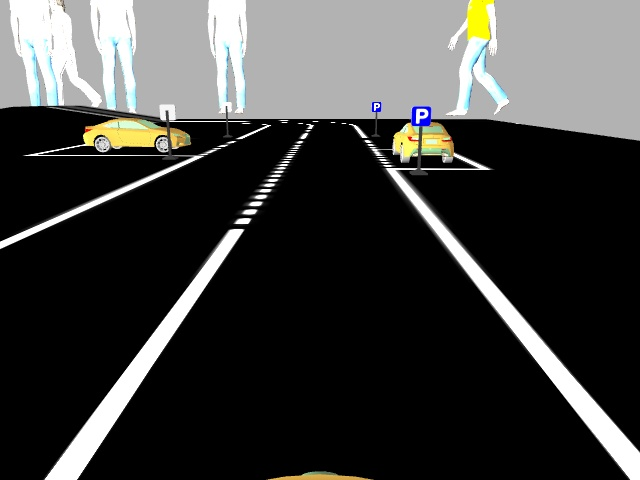Parking: (410, 104, 432, 127), (370, 100, 382, 112)
